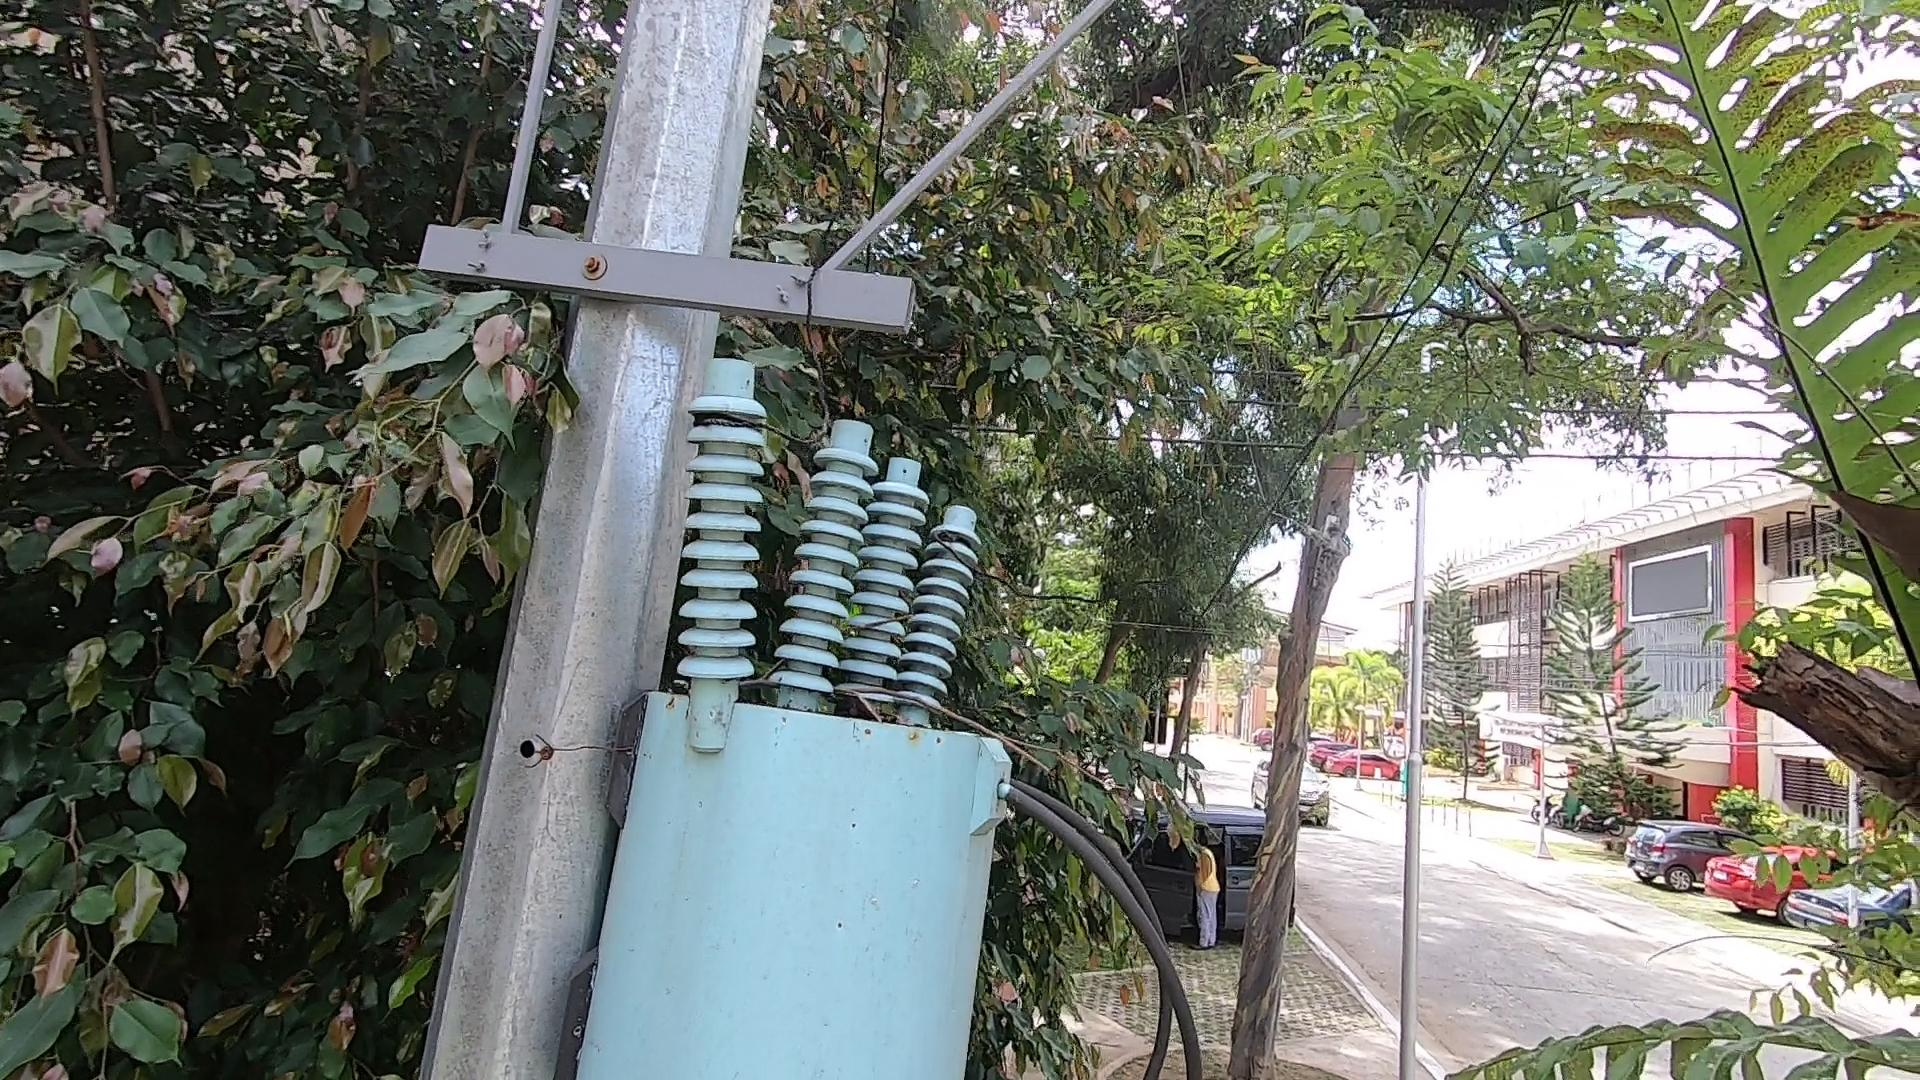leaf: (811, 680, 886, 723)
tree branch: (793, 655, 1077, 793)
